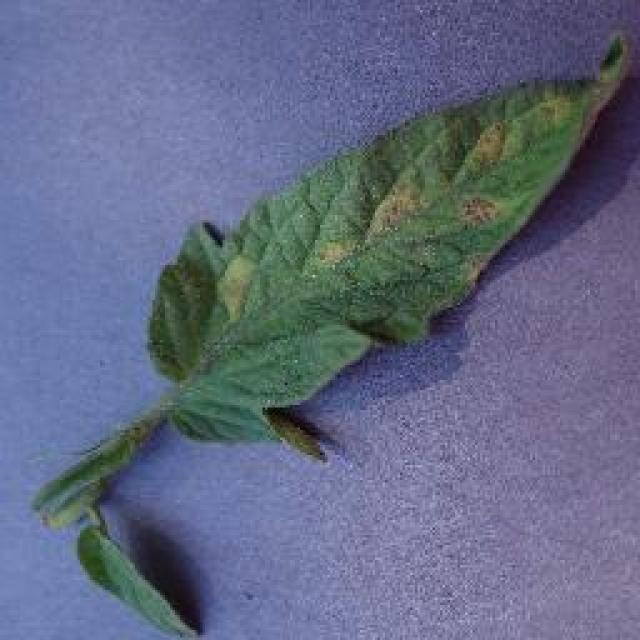Tomato mold leaf: (148, 40, 634, 470)
